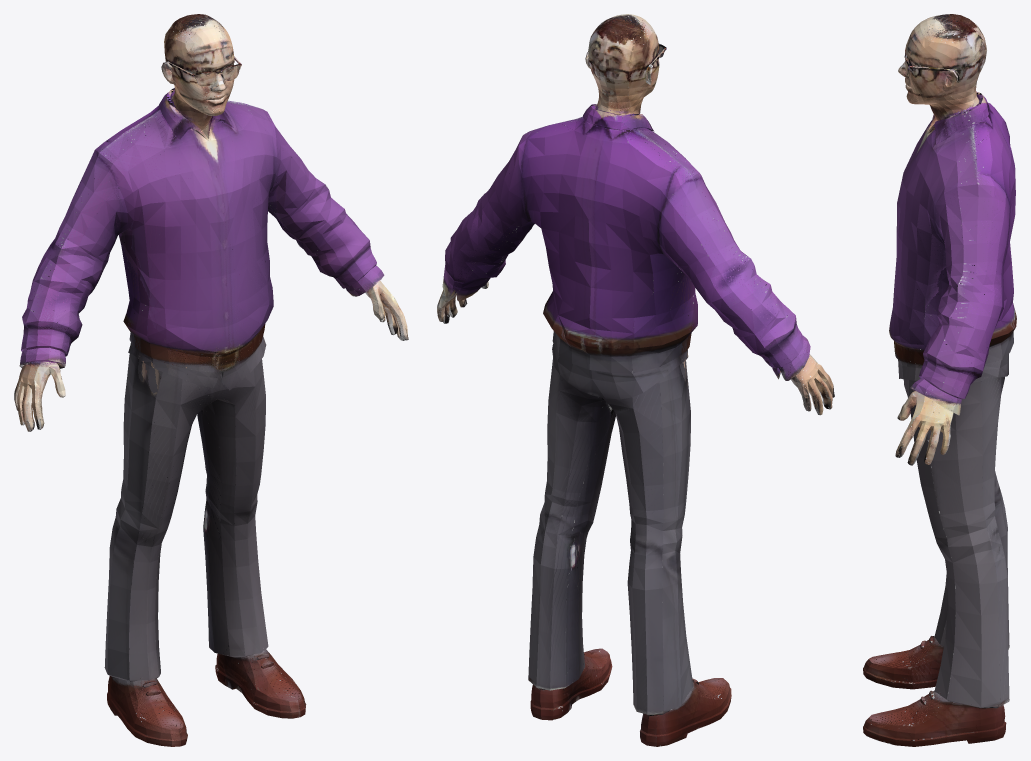
The model's file is textured_error.glb.
3 renders of one model, left to right at view 1: azimuth 30°, elevation 25°; view 2: azimuth 150°, elevation 25°; view 3: azimuth 270°, elevation 25°, orthographic.
Parts seen in each view (by area): view 1: Node; view 2: Node; view 3: Node.
Boxes of the visible parts, x1,y1,x2,y2 form: Node: (14, 14, 408, 746); Node: (437, 14, 834, 746); Node: (863, 14, 1016, 746).
Size of the model in its own units: 1.16 by 2 by 0.4032.
1 material, 1 textured.
